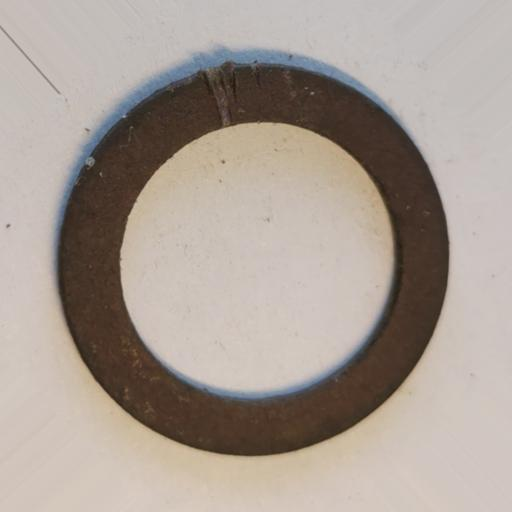defect: (201, 59, 263, 131)
